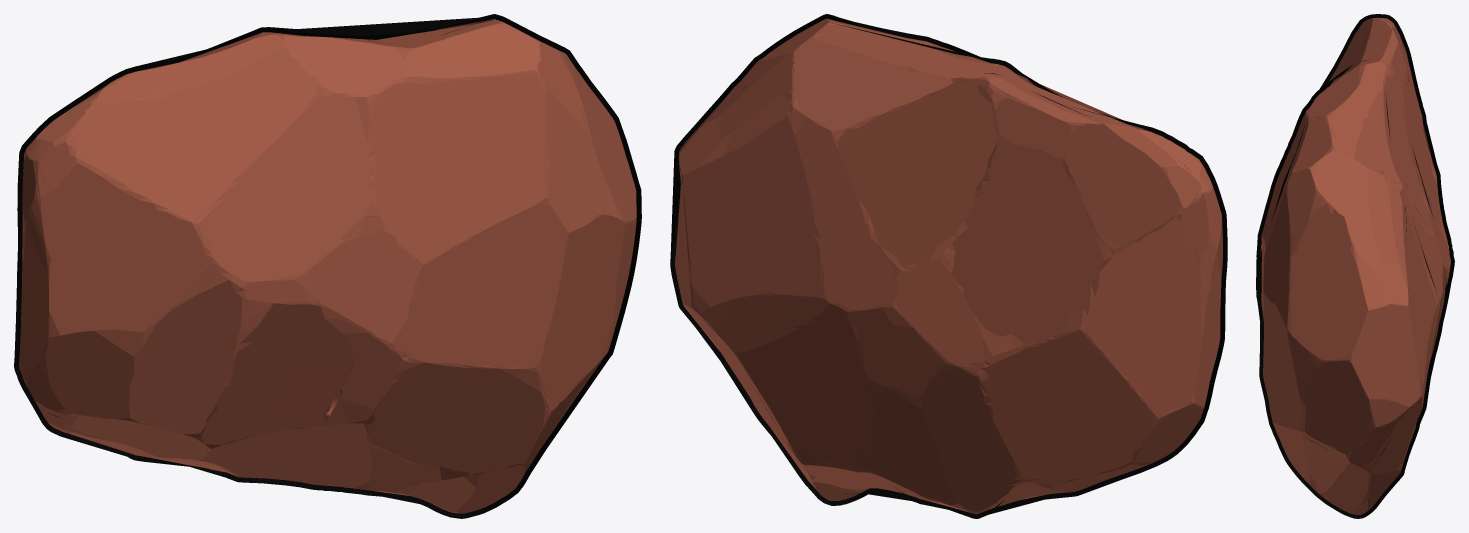
File: rock_large.glb
3 renders of one model, left to right at view 1: azimuth 30°, elevation 25°; view 2: azimuth 150°, elevation 25°; view 3: azimuth 270°, elevation 25°, orthographic. The views are drawn at different scales.
Parts seen in each view (by area): view 1: rock_large; view 2: rock_large; view 3: rock_large.
Part boxes in pixels (bbox=[...]): rock_large: bbox=[14, 14, 641, 518]; rock_large: bbox=[670, 14, 1227, 518]; rock_large: bbox=[1256, 14, 1454, 518].
Size of the model in its own units: 12.18 by 10.18 by 4.68.
